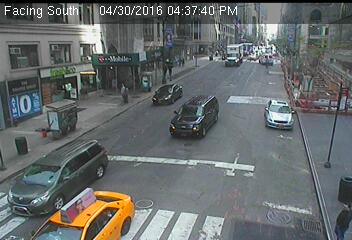neg: (176, 105, 200, 137), (87, 151, 104, 174), (227, 53, 241, 71)
pos: (117, 82, 133, 104), (178, 56, 186, 67)
